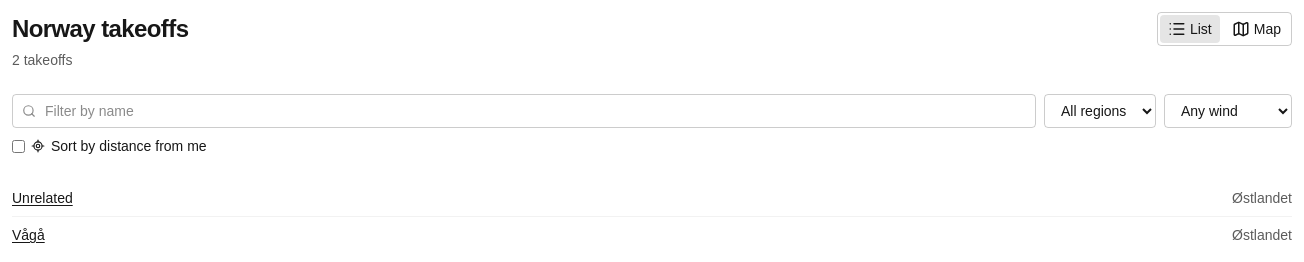
Scenario: TakeoffDirectory — input-driven filtering › finds the issue's own worked example live, through the real rendered component
This screenshot has width=1304, height=262.
Expected: the link "Vågå" is shown, [12,225,45,245]
Type "Vagaa" into the field named "takeoff name".
click(524, 111); type("Vagaa")  # box [12,94,1036,128]
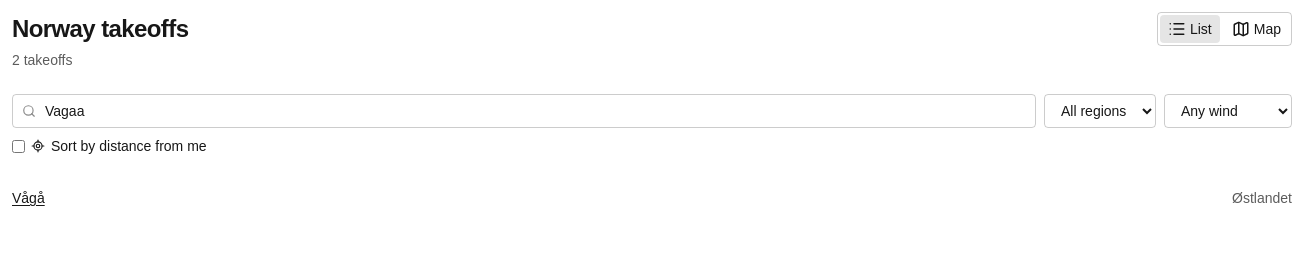
Expected: the link "Vågå" is shown, [12,188,45,208]
Now the link "Unrelated" is gone
